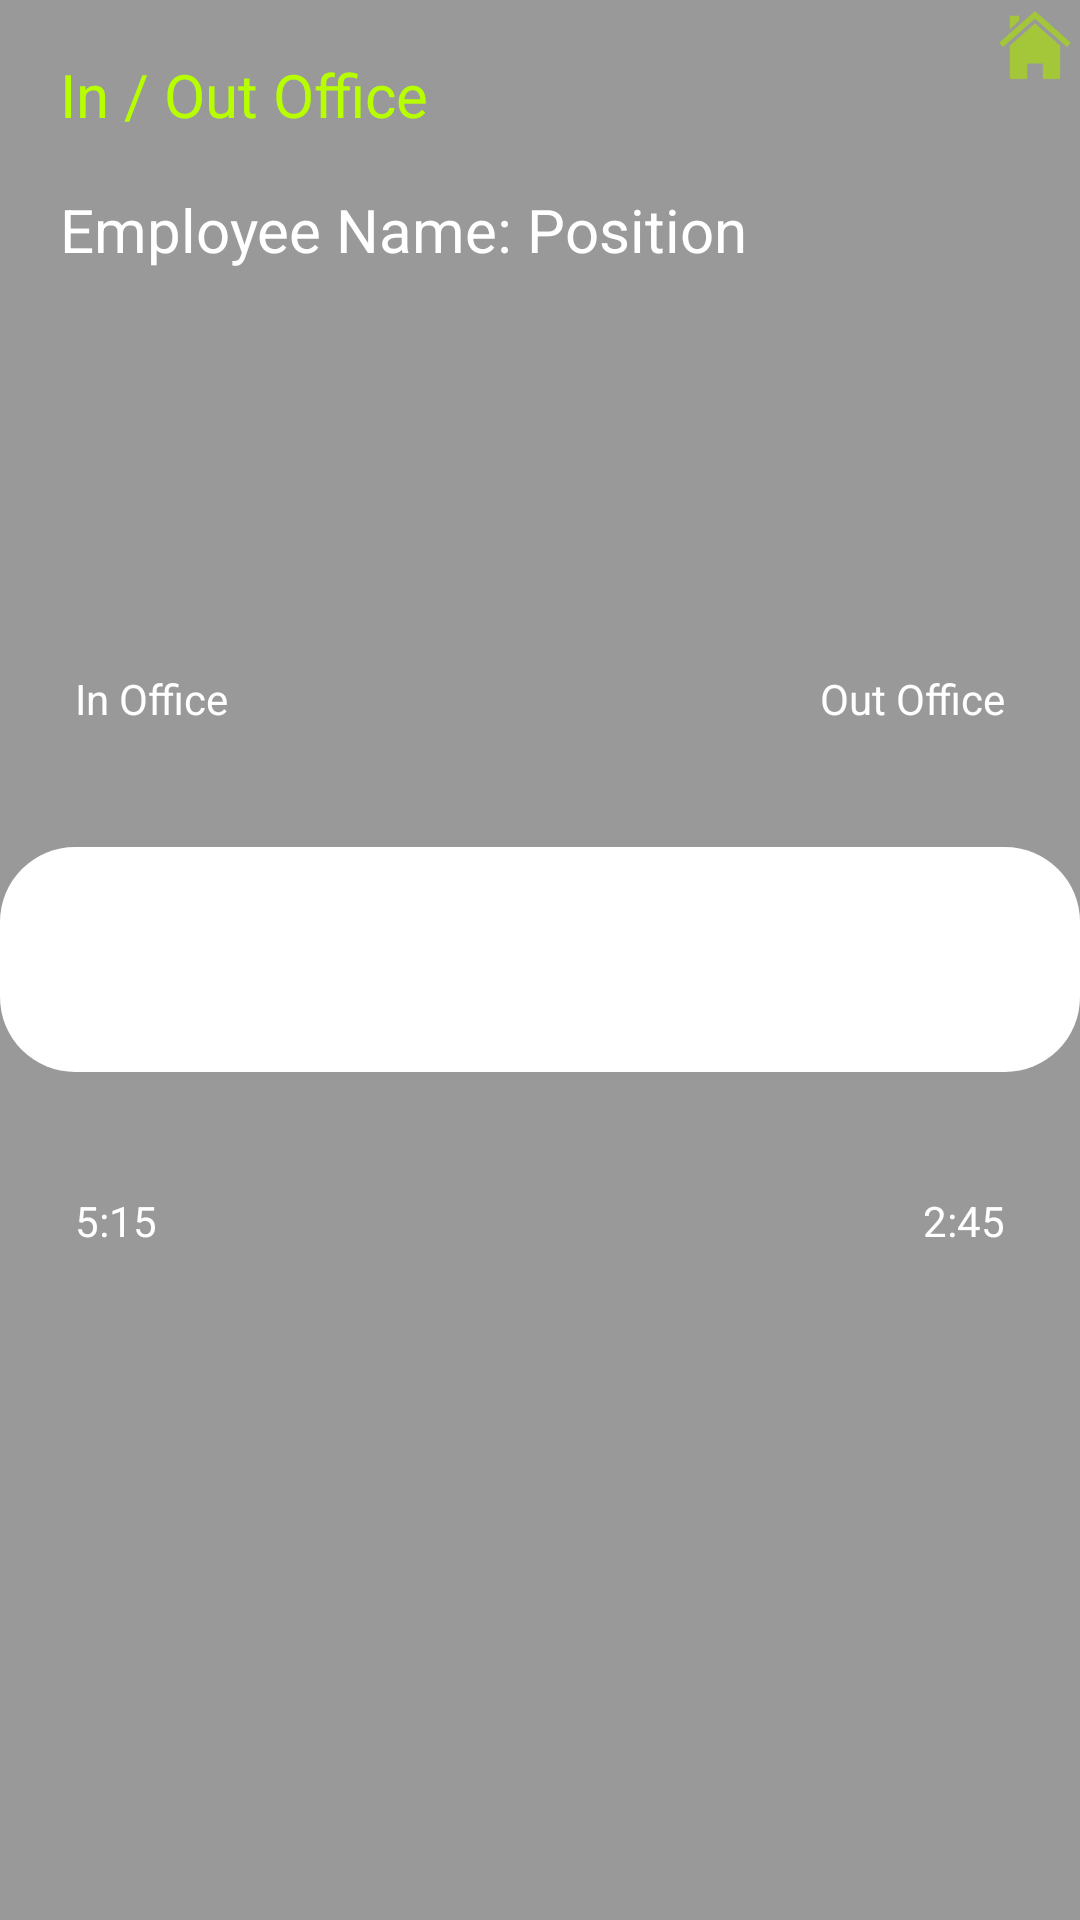

Icon click points for this 1080w x 1920h phone screenshot, format (x,y):
Home: (1035,45)
